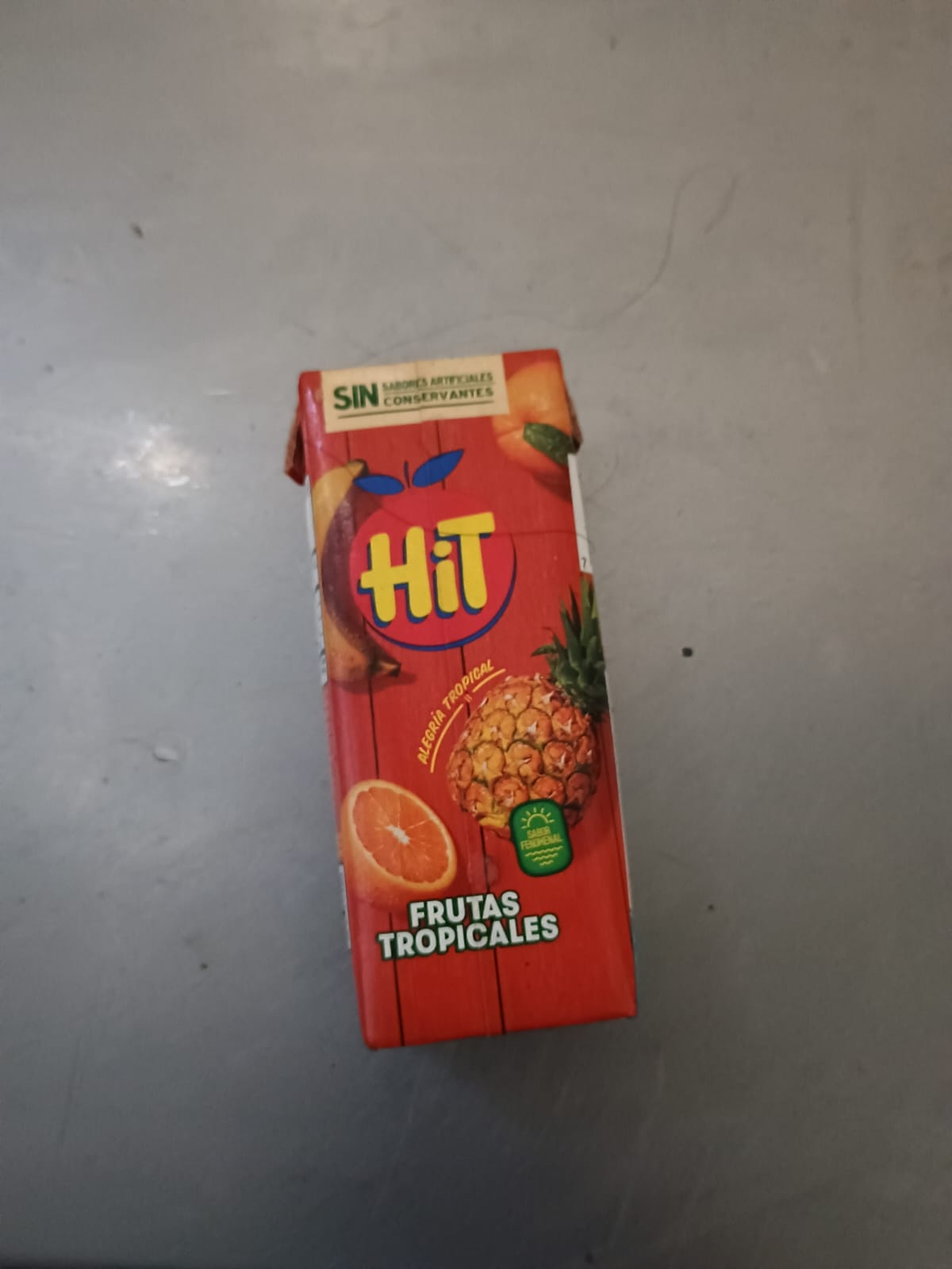Carton: (290, 349, 637, 1046)
